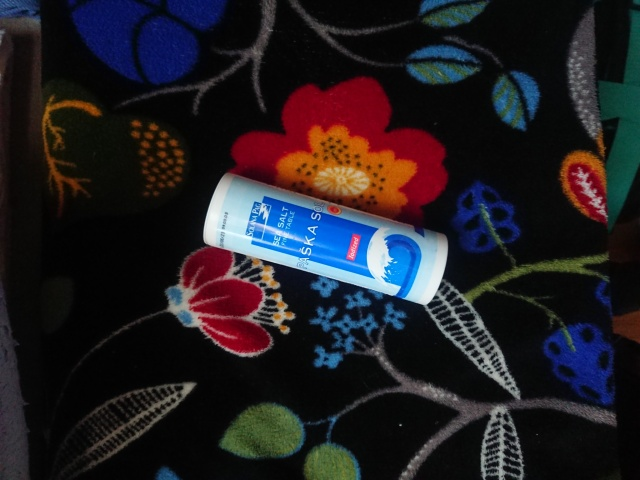Solana Pag Fine Sea Salt 250g: (199, 168, 452, 308)
